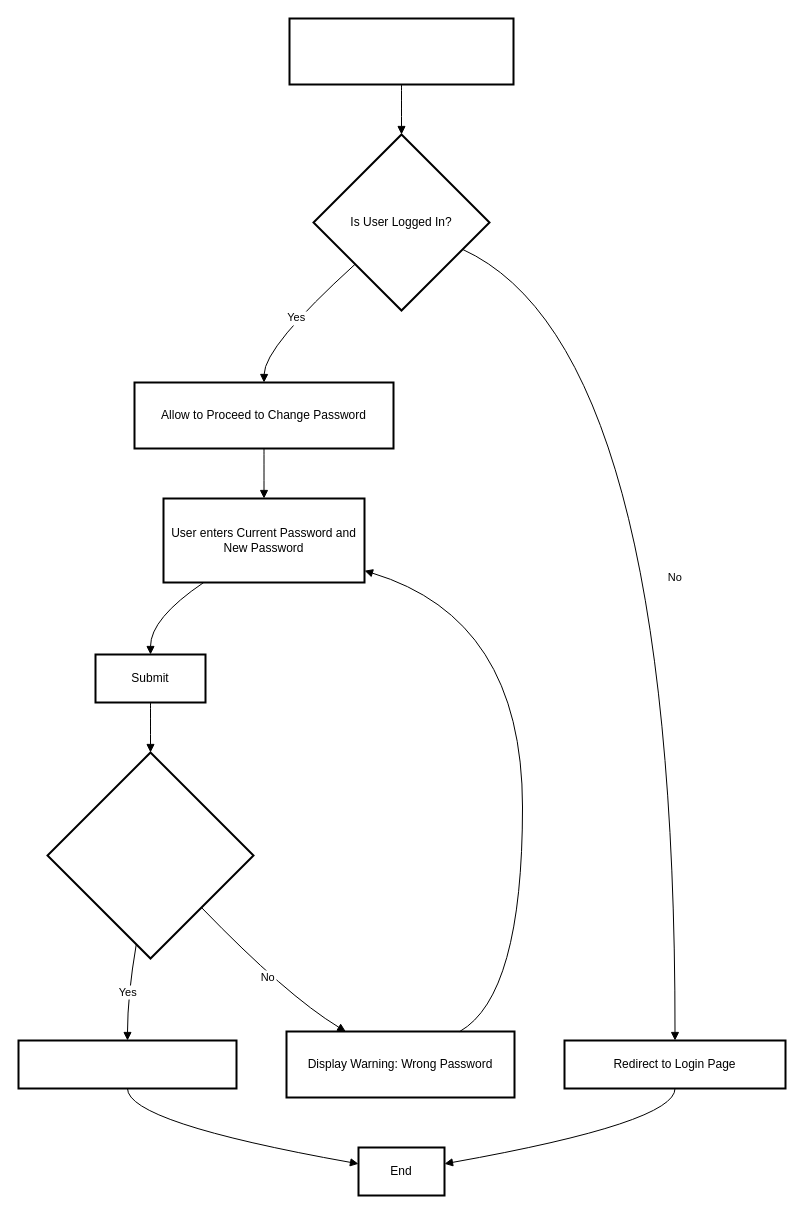
This 803x1213 diagram has some shape labels left out. Here are the shapes that lost their labels. From the top down, the centre of each, then its label:
point (401, 51): Open Change Password Page
point (150, 855): Is Current Password Correct?
point (127, 1064): Update User Password
